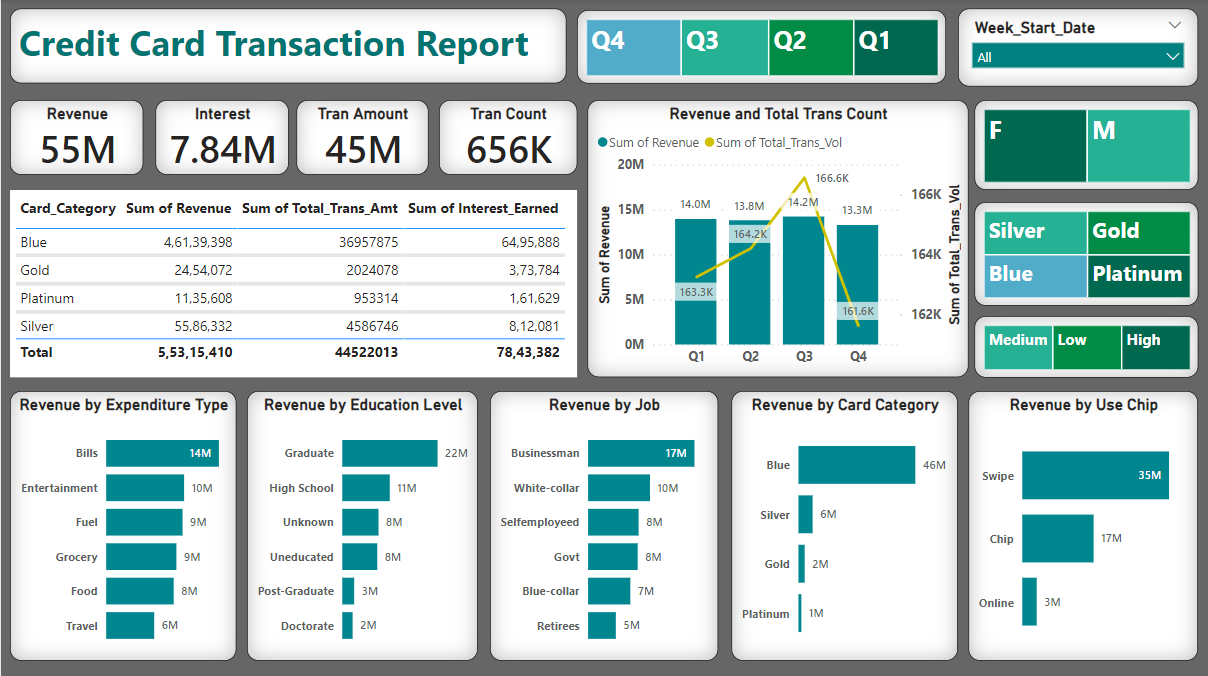

This screenshot's page, from the dashboard's own definition file:
{"tool":"powerbi","page":{"name":"CC Transaction Dashboard","canvas":[1280,720],"ordinal":1},"visuals":[{"type":"textbox","box":[9.5,11.1,590.1,79.5],"z":0},{"type":"lineStackedColumnComboChart","title":"Revenue and Total Trans Count","fields":{"Category":["credit_card.Qtr"],"Y":["Sum(credit_card.Revenue)"],"Y2":["Sum(credit_card.Total_Trans_Vol)"]},"box":[621.9,108.2,404,294.3],"z":1000},{"type":"barChart","title":"Revenue by Expenditure Type","fields":{"Y":["Sum(credit_card.Revenue)"],"Category":["credit_card.Exp Type"]},"box":[9.5,416.7,240.2,286.3],"z":2000},{"type":"barChart","title":"Revenue by Education Level","fields":{"Y":["Sum(credit_card.Revenue)"],"Category":["customer.Education_Level"]},"box":[260.9,416.7,245,286.3],"z":3000},{"type":"barChart","title":"Revenue by Job","fields":{"Y":["Sum(credit_card.Revenue)"],"Category":["customer.Customer_Job"]},"box":[518.5,416.7,241.8,286.3],"z":4000},{"type":"barChart","title":"Revenue by Card Category","fields":{"Y":["Sum(credit_card.Revenue)"],"Category":["credit_card.Card_Category"]},"box":[774.6,416.7,240.2,286.3],"z":5000},{"type":"barChart","title":"Revenue by Use Chip","fields":{"Y":["Sum(credit_card.Revenue)"],"Category":["credit_card.Use Chip"]},"box":[1025.9,416.7,243.4,286.3],"z":6000},{"type":"tableEx","fields":{"Values":["credit_card.Card_Category","Sum(credit_card.Revenue)","Sum(credit_card.Total_Trans_Amt)","Sum(credit_card.Interest_Earned)"]},"box":[9.5,203.6,601.3,198.8],"z":7000},{"type":"card","title":"Revenue","fields":{"Values":["Sum(credit_card.Revenue)"]},"box":[9.5,108.2,141.6,79.5],"z":8000},{"type":"card","title":"Tran Amount","fields":{"Values":["Sum(credit_card.Total_Trans_Amt)"]},"box":[313.4,108.2,140,79.5],"z":9000},{"type":"card","title":"Interest","fields":{"Values":["Sum(credit_card.Interest_Earned)"]},"box":[163.8,108.2,141.6,79.5],"z":10000},{"type":"card","title":"Tran Count","fields":{"Values":["Sum(credit_card.Total_Trans_Vol)"]},"box":[464.5,108.2,146.3,79.5],"z":11000},{"type":"slicer","fields":{"Values":["credit_card.Week_Start_Date"]},"box":[1014.8,11.1,254.5,82.7],"z":12000},{"type":"treemap","fields":{"Group":["credit_card.Qtr"],"Values":["Avg(credit_card.Client_Num)"]},"box":[610.8,12.7,391.3,77.9],"z":13000},{"type":"treemap","fields":{"Group":["customer.Gender"],"Values":["Avg(credit_card.Client_Num)"]},"box":[1032.3,108.2,237,95.4],"z":14000},{"type":"treemap","fields":{"Group":["credit_card.Card_Category"],"Values":["Avg(credit_card.Client_Num)"]},"box":[1032.3,216.3,237,109.8],"z":15000},{"type":"treemap","fields":{"Group":["customer.IncomeGroup"],"Values":["Avg(credit_card.Client_Num)"]},"box":[1032.3,337.2,237,65.2],"z":16000}]}

Visuals, with their boxes in screenshot pixels (x1, y1, x2, y2), scaled from the page's 1280x720 canvas onto the 1208x676 screenshot:
textbox: 9:10:566:85
"Revenue and Total Trans Count" lineStackedColumnComboChart: 587:102:968:378
"Revenue by Expenditure Type" barChart: 9:391:236:660
"Revenue by Education Level" barChart: 246:391:477:660
"Revenue by Job" barChart: 489:391:718:660
"Revenue by Card Category" barChart: 731:391:958:660
"Revenue by Use Chip" barChart: 968:391:1198:660
tableEx - credit_card.Card_Category x Sum(credit_card.Revenue): 9:191:576:378
"Revenue" card: 9:102:143:176
"Tran Amount" card: 296:102:428:176
"Interest" card: 155:102:288:176
"Tran Count" card: 438:102:576:176
slicer - credit_card.Week_Start_Date: 958:10:1198:88
treemap - credit_card.Qtr x Avg(credit_card.Client_Num): 576:12:946:85
treemap - customer.Gender x Avg(credit_card.Client_Num): 974:102:1198:191
treemap - credit_card.Card_Category x Avg(credit_card.Client_Num): 974:203:1198:306
treemap - customer.IncomeGroup x Avg(credit_card.Client_Num): 974:317:1198:378
